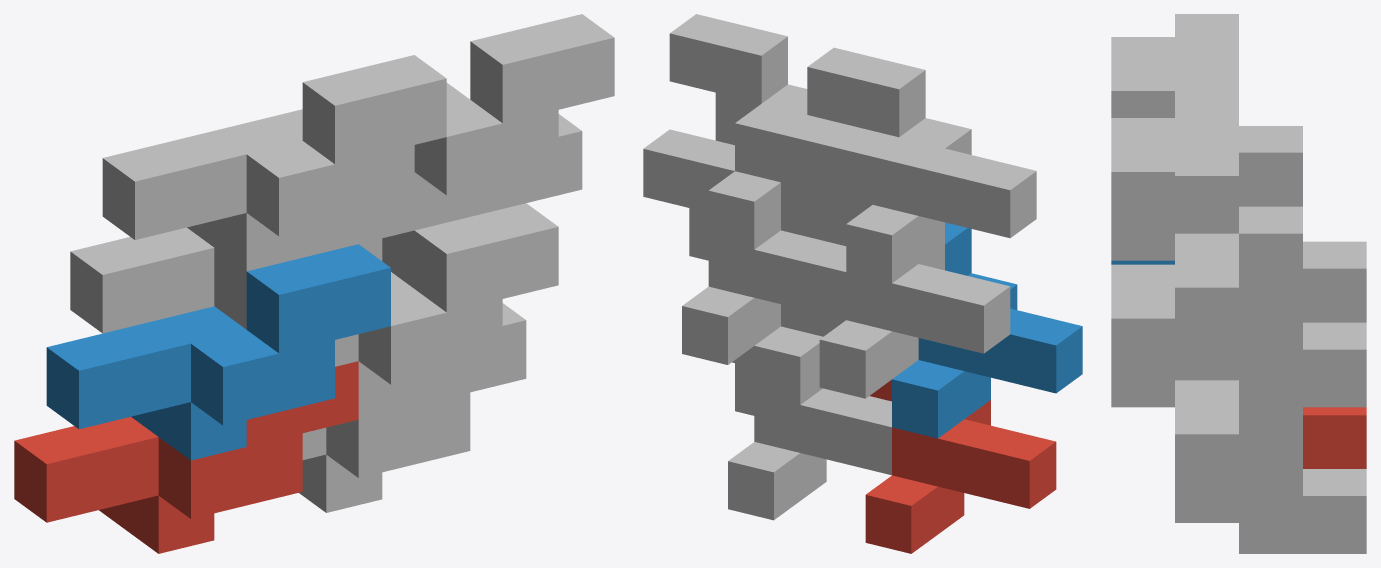
File: tiling.obj
3 renders of one model, left to right at view 1: azimuth 30°, elevation 25°; view 2: azimuth 150°, elevation 25°; view 3: azimuth 270°, elevation 25°, orthographic. The views are drawn at different scales.
Visible parts, largest first — view 1: copy_1_domain_2, copy_1_domain_4, copy_1_domain_1, copy_1_domain_8, copy_1_domain_6, copy_1_domain_3, copy_1_domain_5, copy_1_domain_7; view 2: copy_1_domain_4, copy_1_domain_8, copy_1_domain_7, copy_1_domain_3, copy_1_domain_1, copy_1_domain_5, copy_1_domain_2, copy_1_domain_6; view 3: copy_1_domain_8, copy_1_domain_7, copy_1_domain_5, copy_1_domain_4, copy_1_domain_6, copy_1_domain_3, copy_1_domain_1.
Part boxes in pixels (<box>): copy_1_domain_2: <box>46,244,390,460</box>; copy_1_domain_4: <box>102,55,446,271</box>; copy_1_domain_1: <box>14,361,358,553</box>; copy_1_domain_8: <box>270,14,614,230</box>; copy_1_domain_6: <box>335,203,558,419</box>; copy_1_domain_3: <box>70,172,414,333</box>; copy_1_domain_5: <box>299,303,526,512</box>; copy_1_domain_7: <box>359,114,582,288</box>; copy_1_domain_4: <box>807,47,1036,283</box>; copy_1_domain_8: <box>669,14,898,249</box>; copy_1_domain_7: <box>643,129,846,364</box>; copy_1_domain_3: <box>781,182,1010,398</box>; copy_1_domain_1: <box>865,379,1056,553</box>; copy_1_domain_5: <box>728,346,891,520</box>; copy_1_domain_2: <box>892,222,1082,438</box>; copy_1_domain_6: <box>754,304,845,404</box>; copy_1_domain_8: <box>1111,95,1302,291</box>; copy_1_domain_7: <box>1175,233,1366,407</box>; copy_1_domain_5: <box>1175,380,1366,553</box>; copy_1_domain_4: <box>1111,14,1302,206</box>; copy_1_domain_6: <box>1111,264,1302,438</box>; copy_1_domain_3: <box>1303,241,1366,322</box>; copy_1_domain_1: <box>1303,407,1366,468</box>.
Size of the model in its own units: 9 by 8 by 4.
